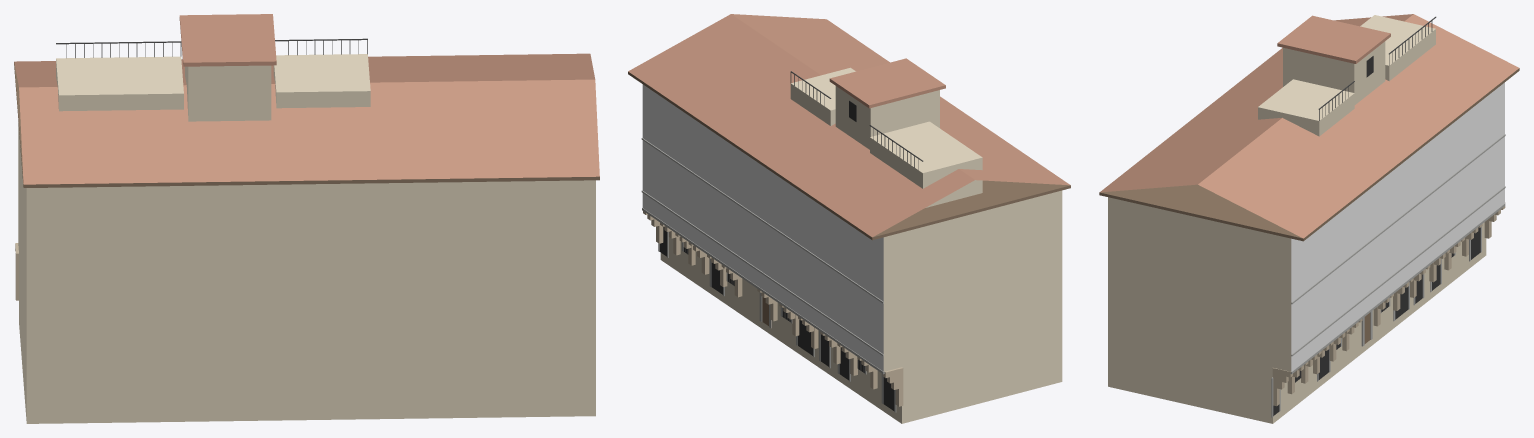
File: antella.glb
The picture shows the model from 3 angles, left to right: view 1: azimuth 30°, elevation 25°; view 2: azimuth 150°, elevation 25°; view 3: azimuth 270°, elevation 25°; orthographic projection. The views are drawn at different scales.
Parts seen in each view (by area): view 1: palazzo@1300-99999.plaster, palazzo@1300-99999.roof, altane@1850-99999.plaster, altane@1850-99999.roof, palazzo@1300-99999.wood, altane@1850-99999.iron; view 2: palazzo@1300-99999.plaster, palazzo@1300-99999.roof, affreschi@1620-99999.fresco, altane@1850-99999.plaster, palazzo@1300-99999.wood, palazzo@1300-99999.forte, altane@1850-99999.roof, palazzo@1300-99999.serena, palazzo@1300-99999.dark, altane@1850-99999.iron; view 3: palazzo@1300-99999.plaster, palazzo@1300-99999.roof, affreschi@1620-99999.fresco, altane@1850-99999.plaster, palazzo@1300-99999.wood, altane@1850-99999.roof, palazzo@1300-99999.forte, palazzo@1300-99999.serena, palazzo@1300-99999.dark, altane@1850-99999.iron.
Part boxes in pixels (x1,y1,x2,y2): palazzo@1300-99999.plaster: (18, 122, 595, 423); palazzo@1300-99999.roof: (14, 53, 599, 184); altane@1850-99999.plaster: (56, 54, 370, 121); altane@1850-99999.roof: (179, 14, 276, 66); palazzo@1300-99999.wood: (14, 62, 599, 187); altane@1850-99999.iron: (56, 38, 367, 58); palazzo@1300-99999.plaster: (660, 190, 1062, 423); palazzo@1300-99999.roof: (628, 14, 1070, 237); affreschi@1620-99999.fresco: (642, 84, 883, 371); altane@1850-99999.plaster: (790, 67, 982, 207); palazzo@1300-99999.wood: (628, 71, 1070, 327); palazzo@1300-99999.forte: (643, 211, 903, 406); altane@1850-99999.roof: (829, 58, 945, 108); palazzo@1300-99999.serena: (641, 138, 896, 412); palazzo@1300-99999.dark: (660, 226, 894, 410); altane@1850-99999.iron: (790, 71, 923, 169); palazzo@1300-99999.plaster: (1108, 197, 1486, 423); palazzo@1300-99999.roof: (1100, 14, 1518, 238); affreschi@1620-99999.fresco: (1291, 82, 1504, 371); altane@1850-99999.plaster: (1258, 15, 1435, 136); palazzo@1300-99999.wood: (1099, 68, 1519, 343); altane@1850-99999.roof: (1277, 15, 1390, 63); palazzo@1300-99999.forte: (1272, 202, 1505, 406); palazzo@1300-99999.serena: (1271, 134, 1505, 417); palazzo@1300-99999.dark: (1273, 227, 1480, 415); altane@1850-99999.iron: (1318, 16, 1436, 120).
Size of the model in its own units: 36.78 by 20.65 by 30.13.
